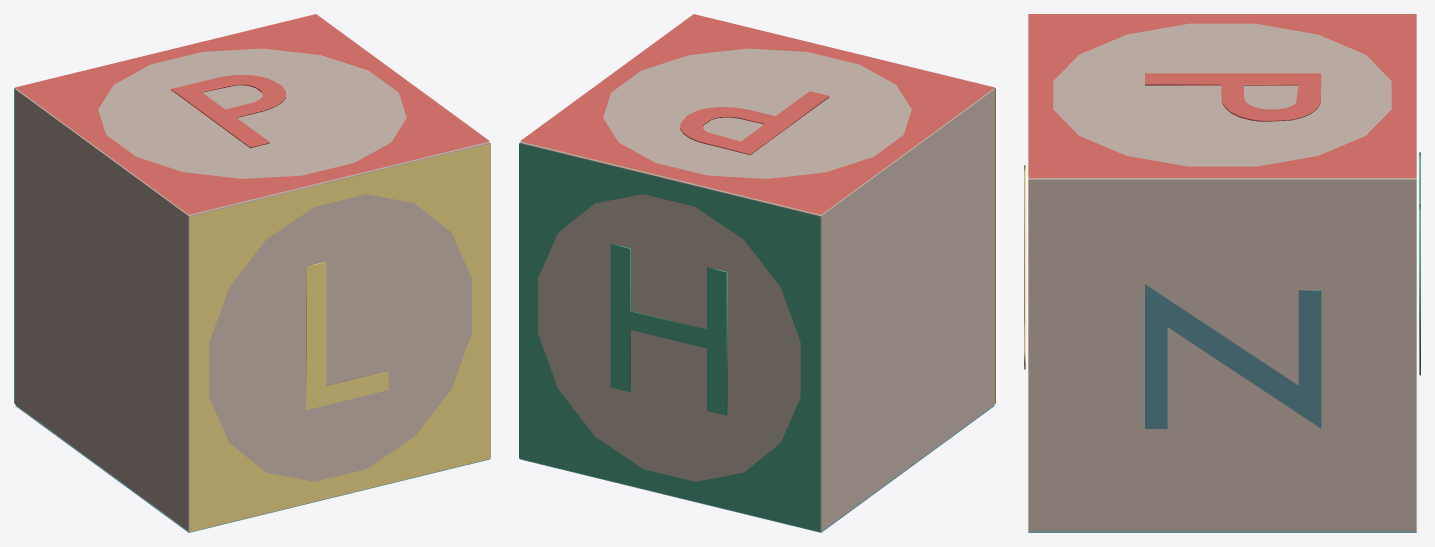
3 renders of one model, left to right at view 1: azimuth 30°, elevation 25°; view 2: azimuth 150°, elevation 25°; view 3: azimuth 270°, elevation 25°, orthographic. The views are drawn at different scales.
Parts seen in each view (by area): view 1: cube; view 2: cube; view 3: cube.
Part boxes in pixels (x1,y1,x2,y2): cube: [14, 14, 490, 532]; cube: [519, 14, 995, 532]; cube: [1024, 14, 1420, 532].
Size of the model in its own units: 0.0453 by 0.046 by 0.046.
